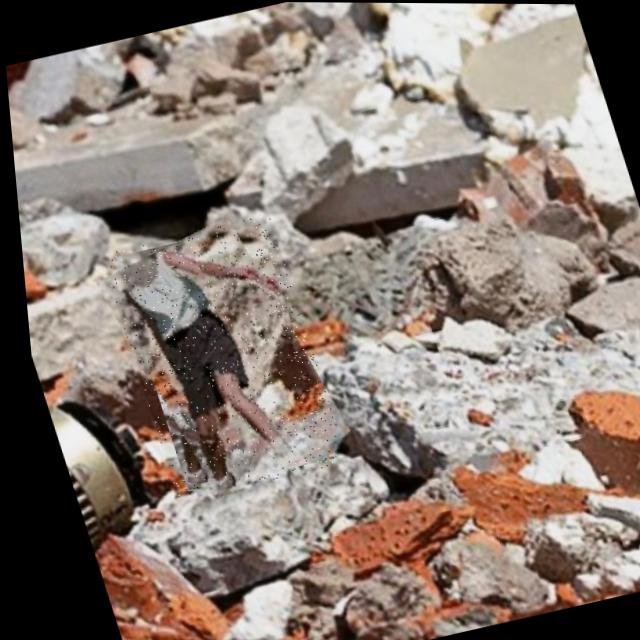Person in Rubble: (92, 212, 342, 501)
